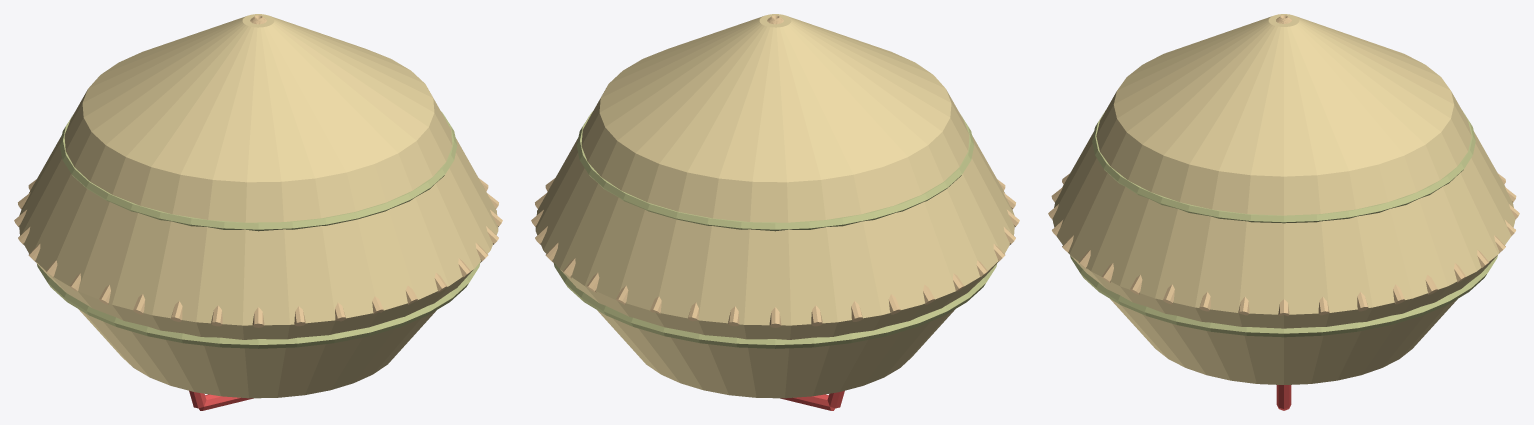
The model's file is local_awaodori_amigasa.glb.
3 renders of one model, left to right at view 1: azimuth 30°, elevation 25°; view 2: azimuth 150°, elevation 25°; view 3: azimuth 270°, elevation 25°, orthographic. The views are drawn at different scales.
Parts seen in each view (by area): view 1: Awa-odori tall pointed amigasa, Dense woven concentric brim, Dense woven concentric brim.002; view 2: Awa-odori tall pointed amigasa, Dense woven concentric brim, Dense woven concentric brim.002; view 3: Awa-odori tall pointed amigasa, Dense woven concentric brim, Dense woven concentric brim.002.
Part boxes in pixels (x1,y1,x2,y2): Awa-odori tall pointed amigasa: [19, 14, 498, 398]; Dense woven concentric brim: [37, 263, 480, 348]; Dense woven concentric brim.002: [59, 111, 457, 231]; Awa-odori tall pointed amigasa: [535, 14, 1014, 398]; Dense woven concentric brim: [553, 263, 996, 348]; Dense woven concentric brim.002: [576, 111, 974, 231]; Awa-odori tall pointed amigasa: [1052, 14, 1515, 384]; Dense woven concentric brim: [1070, 255, 1497, 337]; Dense woven concentric brim.002: [1092, 109, 1475, 223].
Bounding box in the file's own units: 1.95 × 1.67 × 1.95.
